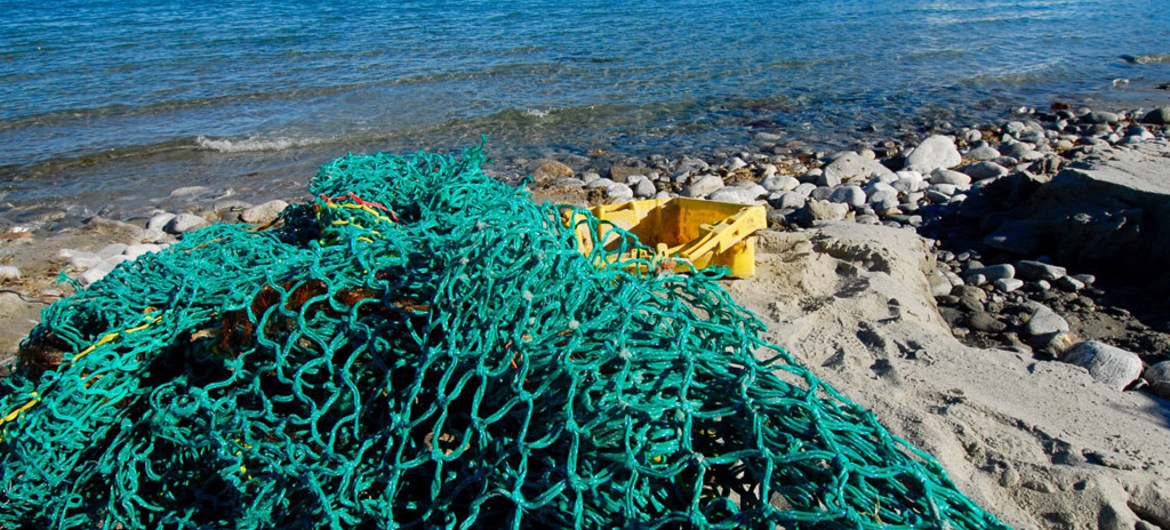litter: (7, 150, 1051, 530), (530, 183, 851, 326)
